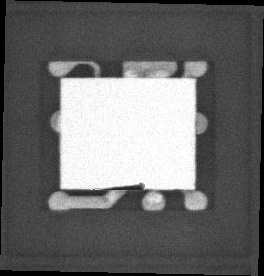DIE_BROKEN: (109, 181, 146, 191)
